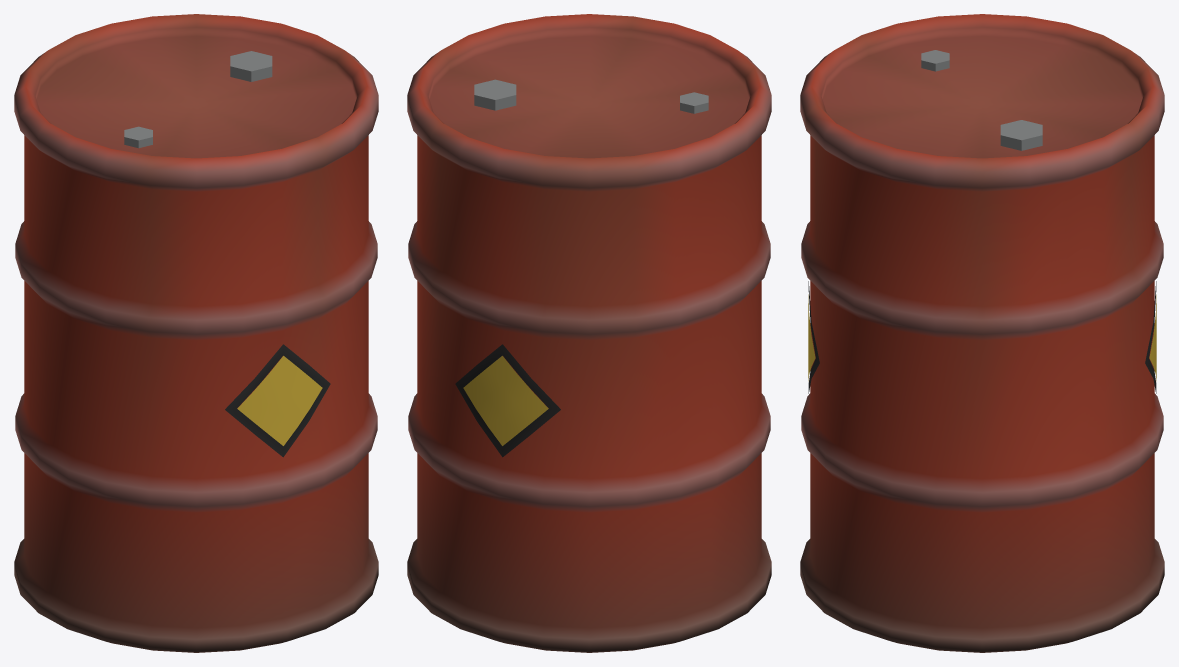
Rendered from barrel.glb.
3 views of the same model, side by side, from view 1: azimuth 30°, elevation 25°; view 2: azimuth 150°, elevation 25°; view 3: azimuth 270°, elevation 25° (orthographic).
Visible parts, largest first — view 1: Drum shell, Bungs; view 2: Drum shell, Bungs; view 3: Drum shell, Bungs.
Boxes of the visible parts, x1,y1,x2,y2 form: Drum shell: (14,14,378,652); Bungs: (124,51,272,148); Drum shell: (407,14,771,652); Bungs: (474,79,708,113); Drum shell: (800,14,1164,652); Bungs: (921,50,1042,150).
Size of the model in its own units: 0.932 by 1.4 by 0.932.
